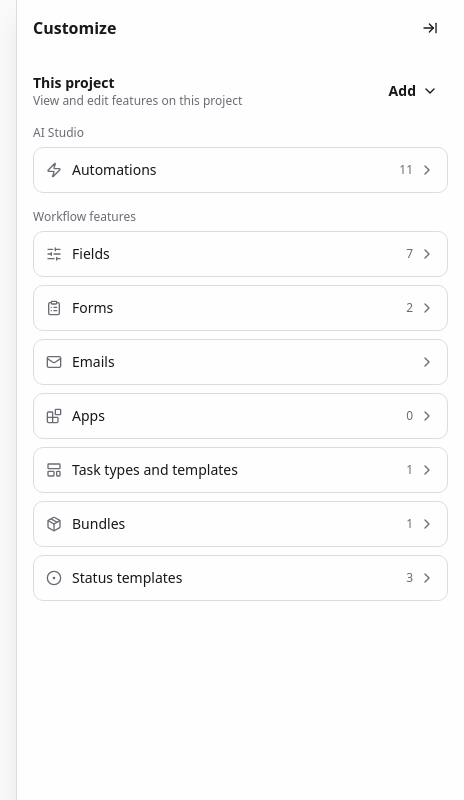
Test case: CustomizePanel › opens a feature from the Add menu
Click the button "Add" at (413, 91), box [379,73,448,109]
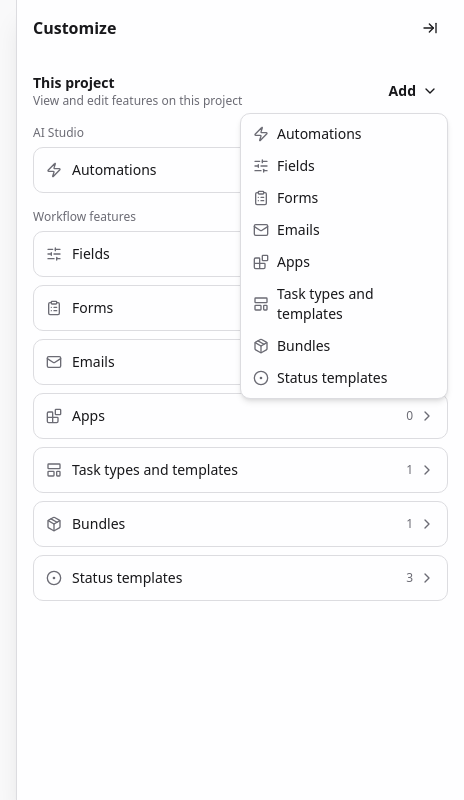
Click the menu item "Fields" at (284, 166), box [253,156,315,175]
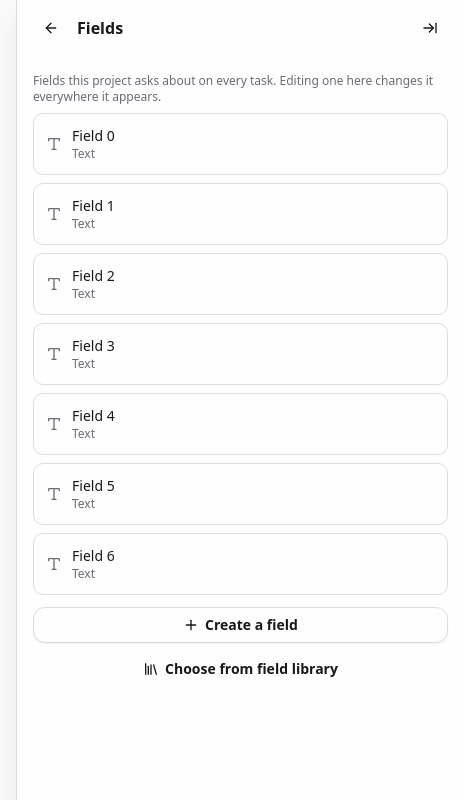
Check: the heading "Fields" is shown, box [77,16,123,40]
